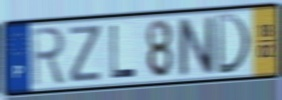8: (145, 18, 174, 80)
D: (215, 12, 253, 76)
L: (109, 23, 137, 80)
N: (175, 15, 216, 79)
R: (30, 24, 67, 89)
Z: (68, 23, 103, 85)
